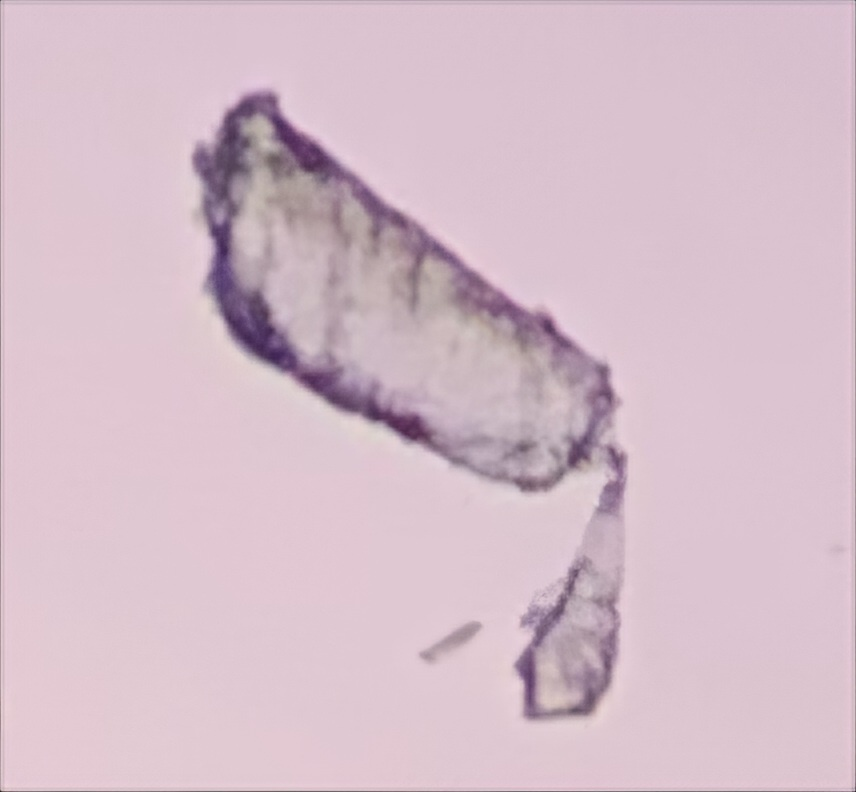microplastic: (196, 90, 631, 718), (422, 620, 483, 659)
